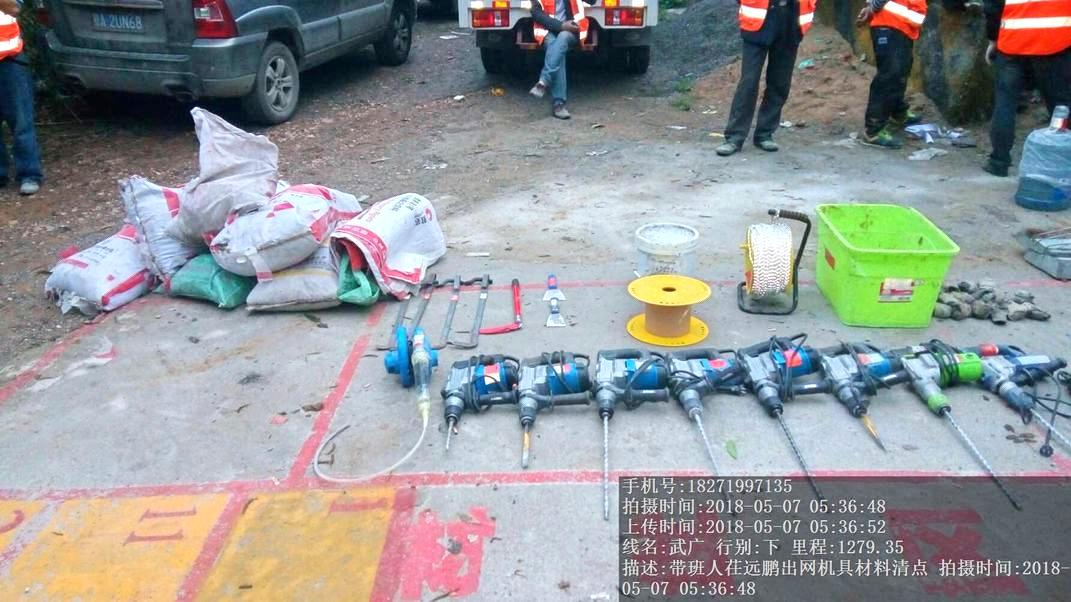DX: (732, 205, 815, 319)
DZ: (817, 337, 904, 457), (900, 340, 986, 453), (985, 339, 1071, 437), (742, 345, 822, 449), (595, 347, 676, 449), (435, 355, 517, 453), (669, 345, 744, 450), (517, 348, 592, 441)
T: (815, 201, 960, 329)
